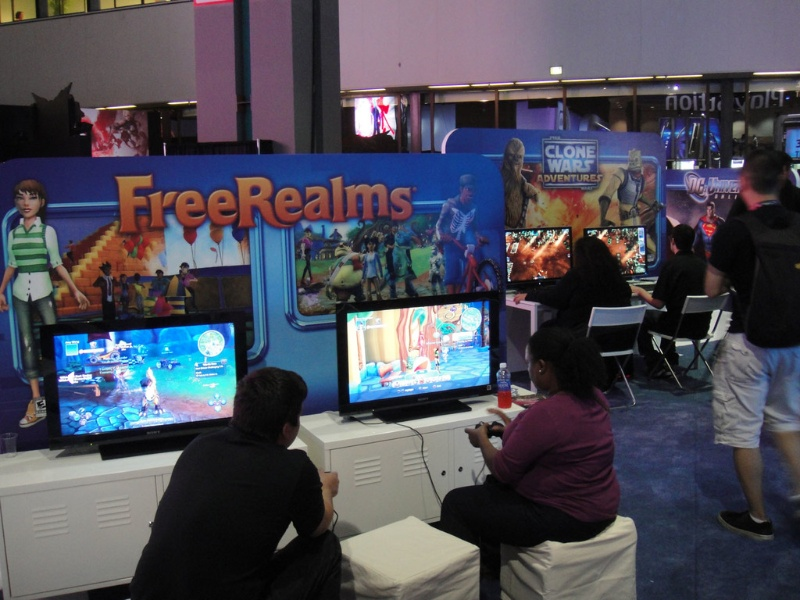tv: (32, 314, 244, 454), (328, 293, 518, 421), (497, 217, 576, 287)
